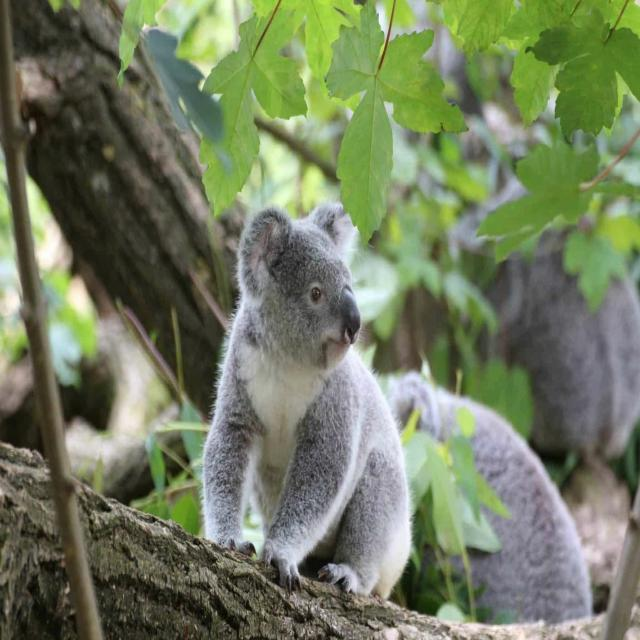koala: (202, 203, 411, 598)
